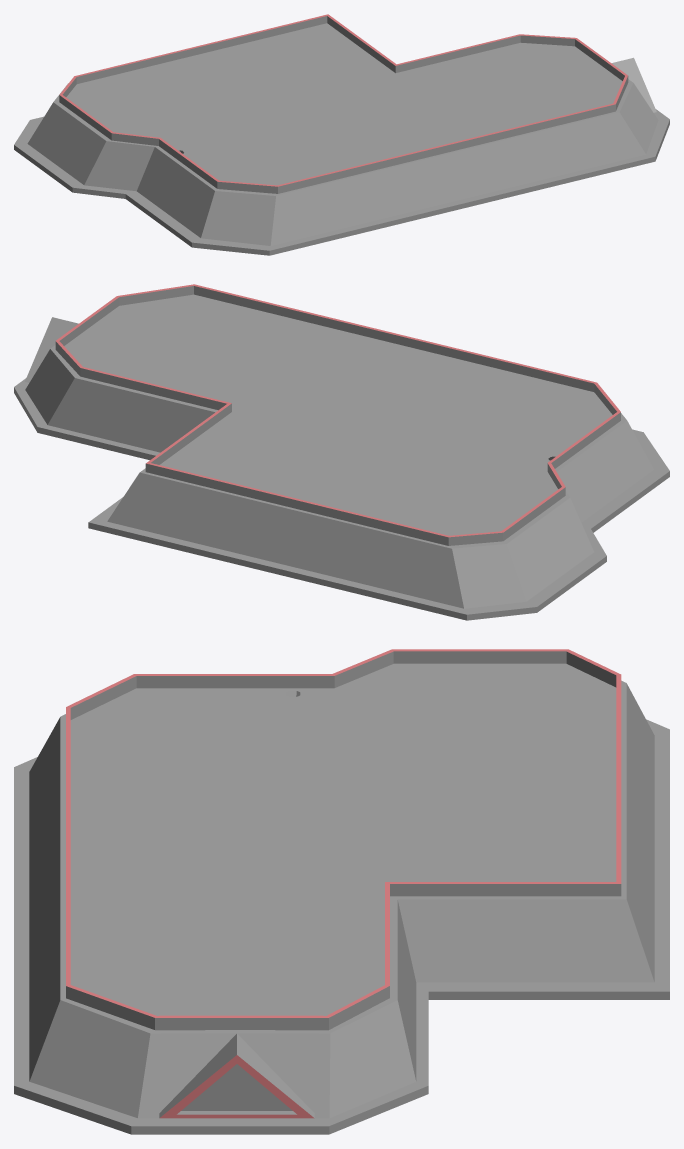
File: Roof.fbx
3 views of the same model, one above another, from view 1: azimuth 30°, elevation 25°; view 2: azimuth 150°, elevation 25°; view 3: azimuth 270°, elevation 25° (orthographic). The views are drawn at different scales.
Parts seen in each view (by area): view 1: polySurface77; view 2: polySurface77; view 3: polySurface77.
Part boxes in pixels (x1=…): polySurface77: x1=14, y1=14, x2=669, y2=255; polySurface77: x1=14, y1=284, x2=669, y2=620; polySurface77: x1=14, y1=649, x2=669, y2=1134.
Bounding box in the file's own units: 327 × 31.47 × 212.
